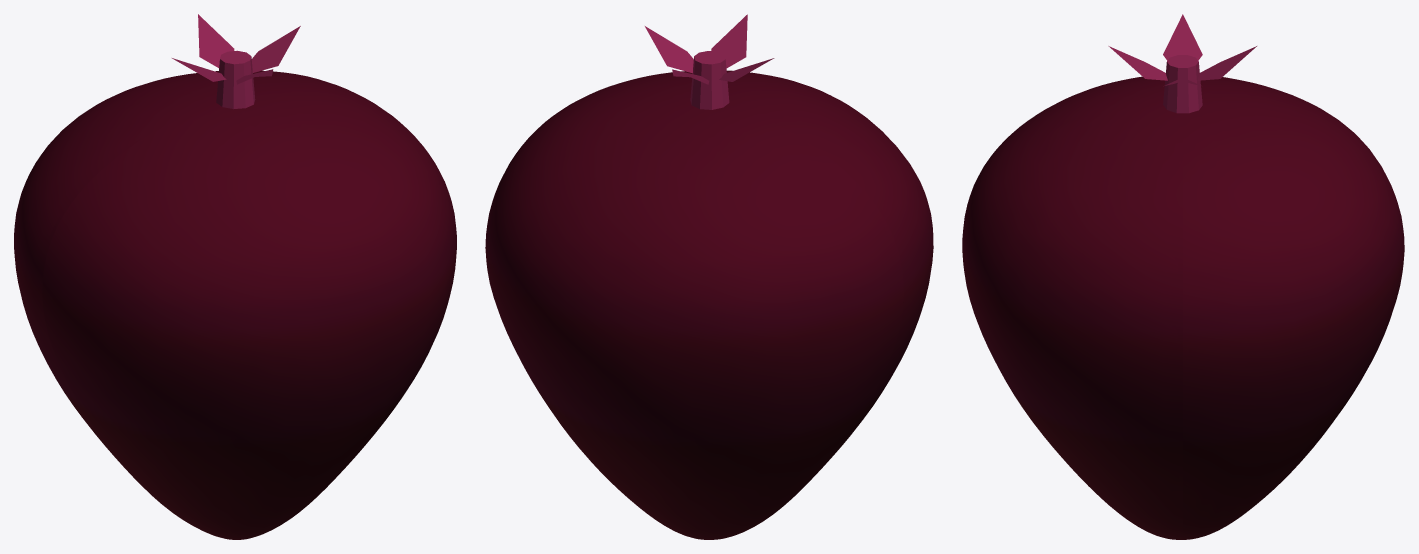
Rendered from betterave.glb.
The picture shows the model from 3 angles, left to right: view 1: azimuth 30°, elevation 25°; view 2: azimuth 150°, elevation 25°; view 3: azimuth 270°, elevation 25°; orthographic projection.
Visible parts, largest first — view 1: moitie_B_peau, entier_peau, moitie_A_peau, entier_extra0; view 2: moitie_A_peau, entier_peau, moitie_B_peau, entier_extra0; view 3: moitie_B_peau, moitie_A_peau, entier_peau, entier_extra0.
Boxes of the visible parts, x1,y1,x2,y2 form: moitie_B_peau: (42,92,456,539); entier_peau: (15,71,456,539); moitie_A_peau: (14,70,381,506); entier_extra0: (172,14,300,109); moitie_A_peau: (485,92,903,539); entier_peau: (486,70,933,539); moitie_B_peau: (564,70,932,504); entier_extra0: (645,14,774,109); moitie_B_peau: (962,76,1182,539); moitie_A_peau: (1183,77,1404,539); entier_peau: (962,78,1403,539); entier_extra0: (1108,14,1256,113).
Size of the model in its own units: 1.78 by 2.16 by 1.77.
